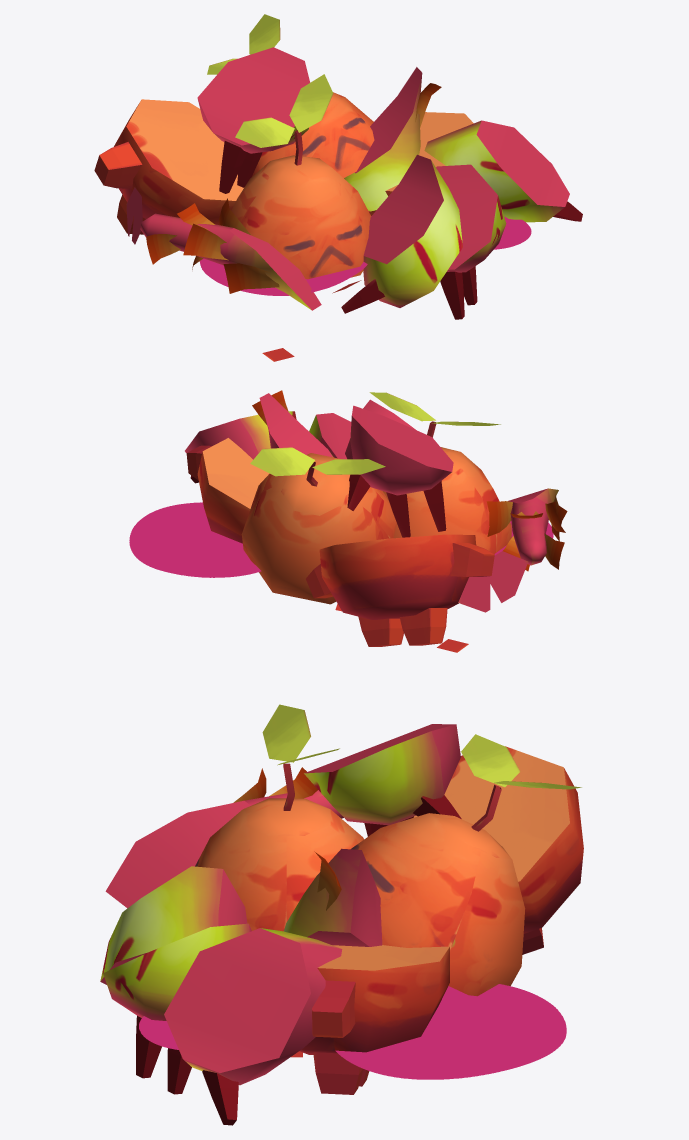
File: DishChilliPotato.fbx
The picture shows the model from 3 angles, top to bottom: view 1: azimuth 30°, elevation 25°; view 2: azimuth 150°, elevation 25°; view 3: azimuth 270°, elevation 25°; orthographic projection. The views are drawn at different scales.
Visible parts, largest first — view 1: GEOPotato4, GEOPotato5, GEOChilliDia2, GEOChilliDia4, GEOChilliDia5, GEOChilliDia6, GEOChilliDia3, GEOChilliDia1, GEOPotato2, GEOPinkBlob5, GEOPotato1; view 2: GEOPotato2, GEOPotato5, GEOChilliDia5, GEOPinkBlob5, GEOPotato4, GEOChilliDia4, GEOPotato1, GEOChilliDia3, GEOChilliDia6, GEOChilliDia1, GEOChilliDia2; view 3: GEOPotato2, GEOChilliDia6, GEOPotato4, GEOPotato1, GEOPinkBlob5, GEOPotato5, GEOChilliDia5, GEOChilliDia2, GEOChilliDia4, GEOChilliDia1, GEOChilliDia3.
Part boxes in pixels (x1=…): GEOPotato4: x1=231, y1=74, x2=371, y2=361; GEOPotato5: x1=94, y1=99, x2=243, y2=234; GEOChilliDia2: x1=341, y1=154, x2=462, y2=313; GEOChilliDia4: x1=126, y1=187, x2=321, y2=310; GEOChilliDia5: x1=197, y1=47, x2=310, y2=193; GEOChilliDia6: x1=424, y1=120, x2=582, y2=222; GEOChilliDia3: x1=344, y1=67, x2=441, y2=211; GEOChilliDia1: x1=436, y1=164, x2=506, y2=319; GEOPotato2: x1=207, y1=14, x2=374, y2=293; GEOPinkBlob5: x1=199, y1=216, x2=531, y2=295; GEOPotato1: x1=369, y1=112, x2=473, y2=215; GEOPotato2: x1=241, y1=447, x2=396, y2=611; GEOPotato5: x1=306, y1=534, x2=494, y2=646; GEOChilliDia5: x1=347, y1=405, x2=453, y2=537; GEOPinkBlob5: x1=129, y1=502, x2=553, y2=577; GEOPotato4: x1=369, y1=392, x2=511, y2=652; GEOChilliDia4: x1=458, y1=488, x2=567, y2=612; GEOPotato1: x1=186, y1=438, x2=269, y2=543; GEOChilliDia3: x1=252, y1=390, x2=333, y2=457; GEOChilliDia6: x1=185, y1=411, x2=296, y2=483; GEOChilliDia1: x1=309, y1=413, x2=351, y2=459; GEOChilliDia2: x1=345, y1=399, x2=415, y2=459; GEOPotato2: x1=351, y1=734, x2=581, y2=996; GEOChilliDia6: x1=164, y1=928, x2=342, y2=1125; GEOPotato4: x1=195, y1=704, x2=363, y2=1057; GEOPotato1: x1=299, y1=945, x2=449, y2=1094; GEOPinkBlob5: x1=139, y1=984, x2=566, y2=1079; GEOPotato5: x1=413, y1=746, x2=583, y2=954; GEOChilliDia5: x1=304, y1=724, x2=461, y2=836; GEOChilliDia2: x1=100, y1=866, x2=247, y2=984; GEOChilliDia4: x1=105, y1=767, x2=343, y2=908; GEOChilliDia1: x1=103, y1=923, x2=251, y2=1094; GEOChilliDia3: x1=284, y1=848, x2=382, y2=946.
Bounding box in the file's own units: 265 × 155 × 265.
